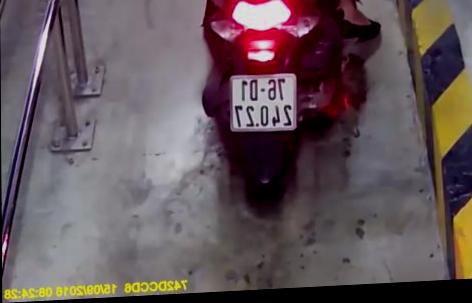License_Plate: (225, 65, 302, 135)
